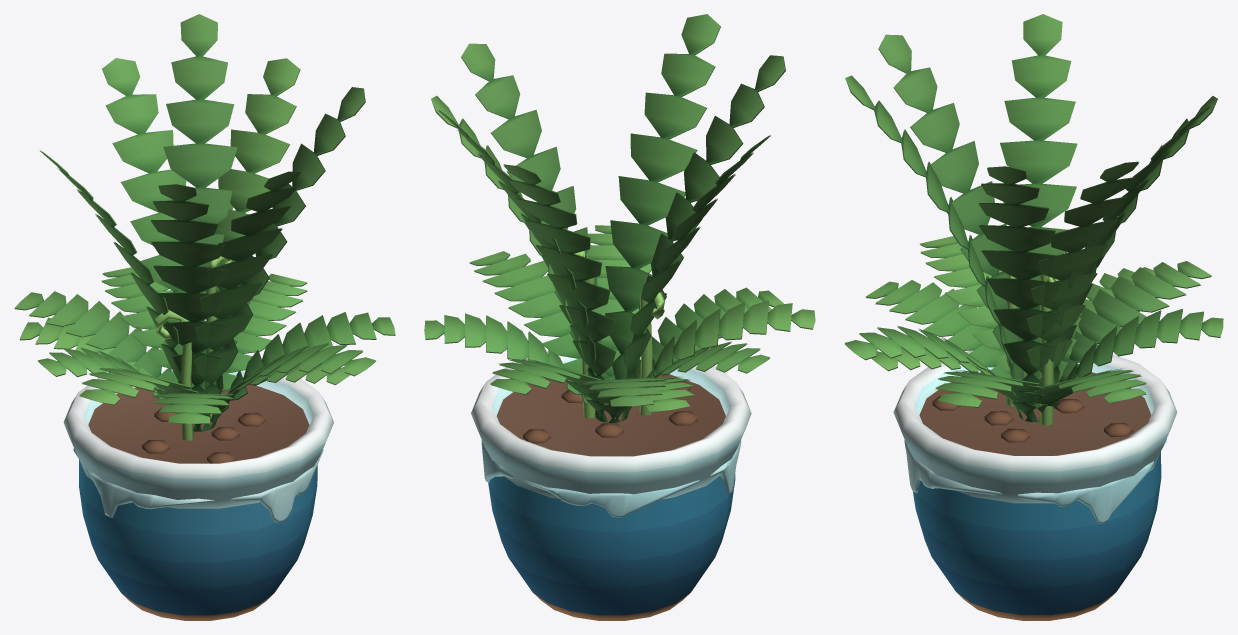
Rendered from furn-pottedFern.glb.
3 views of the same model, side by side, from view 1: azimuth 30°, elevation 25°; view 2: azimuth 150°, elevation 25°; view 3: azimuth 270°, elevation 25° (orthographic). The views are drawn at different scales.
Visible parts, largest first — view 1: furn; view 2: furn; view 3: furn.
Boxes of the visible parts, <box> form: furn: <box>14,14,395,620</box>; furn: <box>424,14,815,620</box>; furn: <box>845,14,1223,620</box>.
Size of the model in its own units: 0.5094 by 0.7561 by 0.4966.
